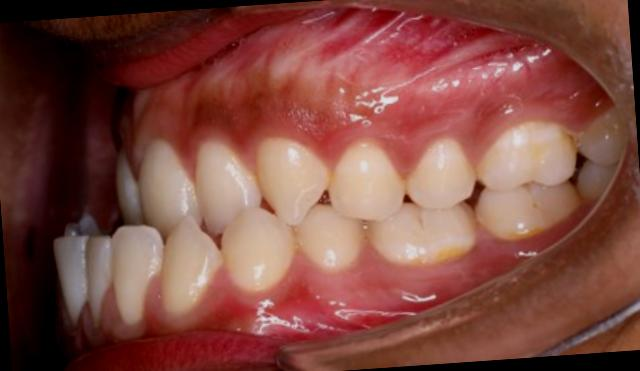canine class III full class: (149, 132, 336, 323)
molar class III full class: (356, 121, 588, 266)
